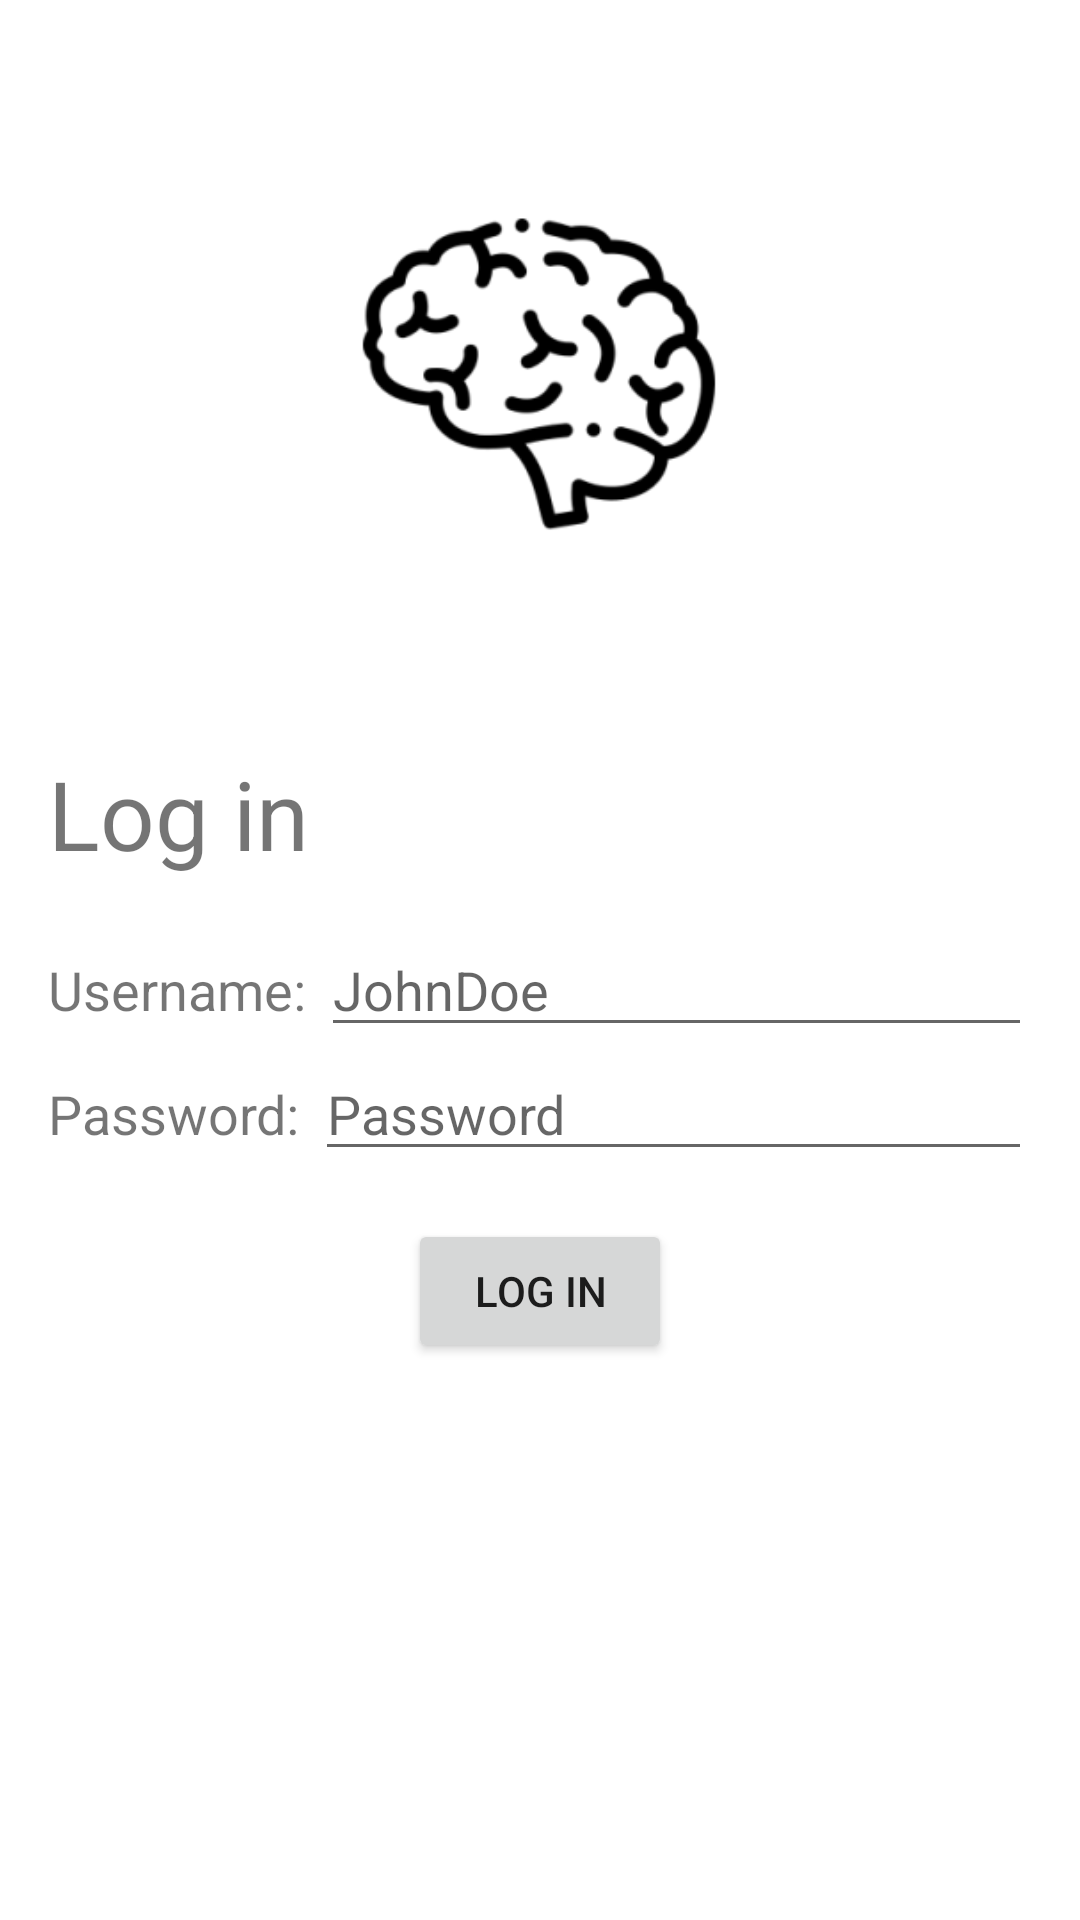

Point at icon controls on the screen. Image size 1080px x 1920px, points as (x=x, y=y).
brain: (x=539, y=374)
